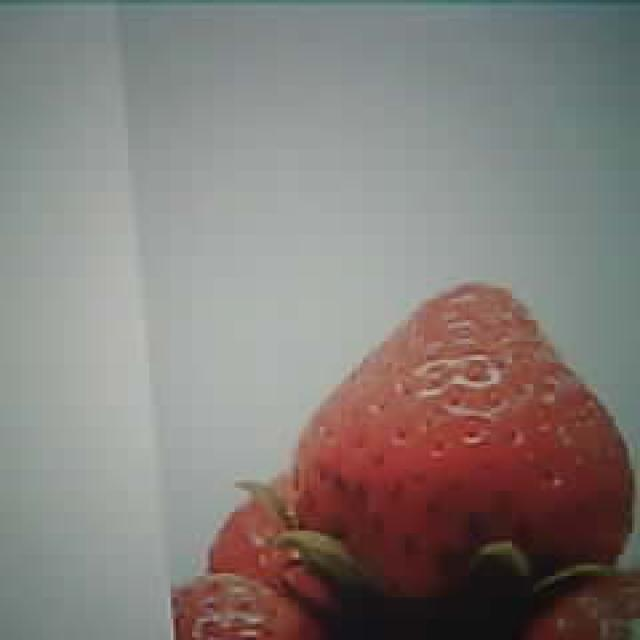ripe: (293, 284, 637, 598)
